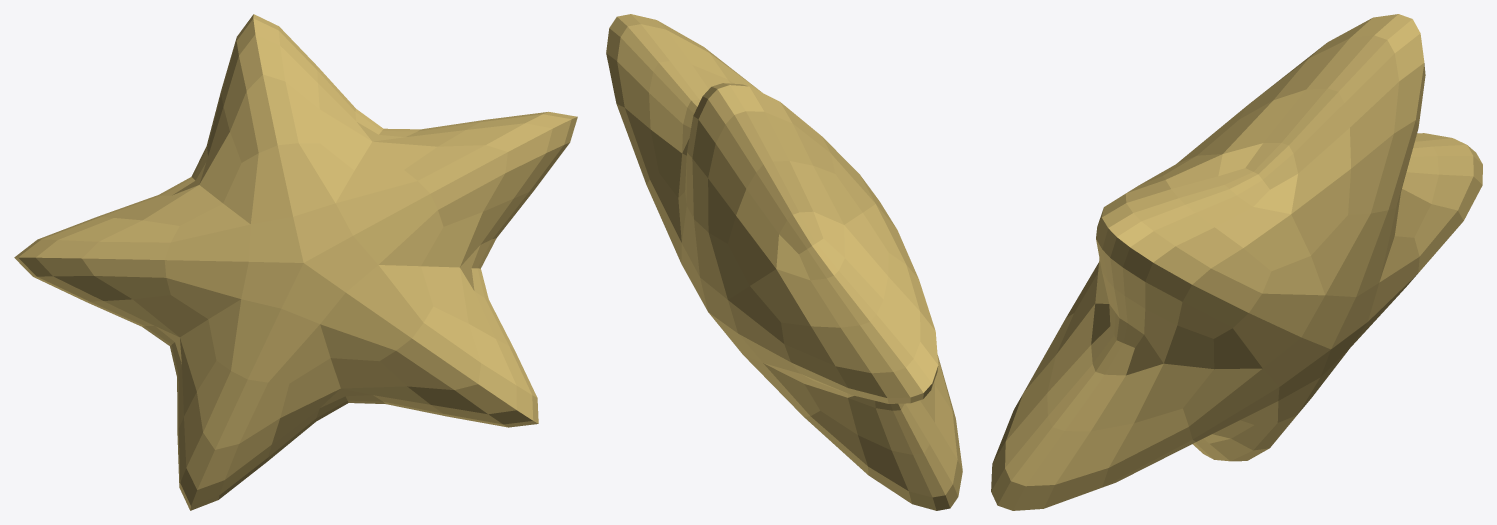
Rendered from SMALLSTAR.fbx.
3 views of the same model, side by side, from view 1: azimuth 30°, elevation 25°; view 2: azimuth 150°, elevation 25°; view 3: azimuth 270°, elevation 25° (orthographic). The views are drawn at different scales.
Visible parts, largest first — view 1: Circle; view 2: Circle; view 3: Circle.
Boxes of the visible parts, x1,y1,x2,y2 form: Circle: (14, 14, 577, 510); Circle: (606, 14, 962, 510); Circle: (991, 14, 1482, 510).
Size of the model in its own units: 2.78 by 2.55 by 2.17.
